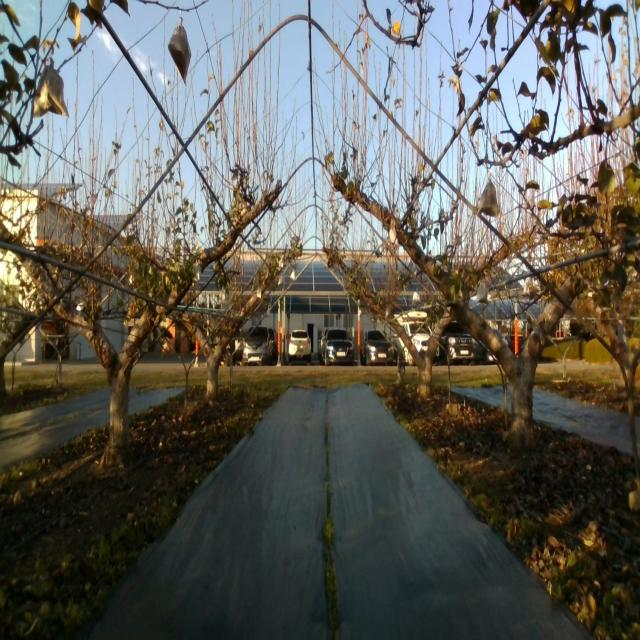pearbags: (32, 65, 69, 117), (168, 25, 191, 85), (478, 181, 500, 218), (476, 283, 488, 304)
